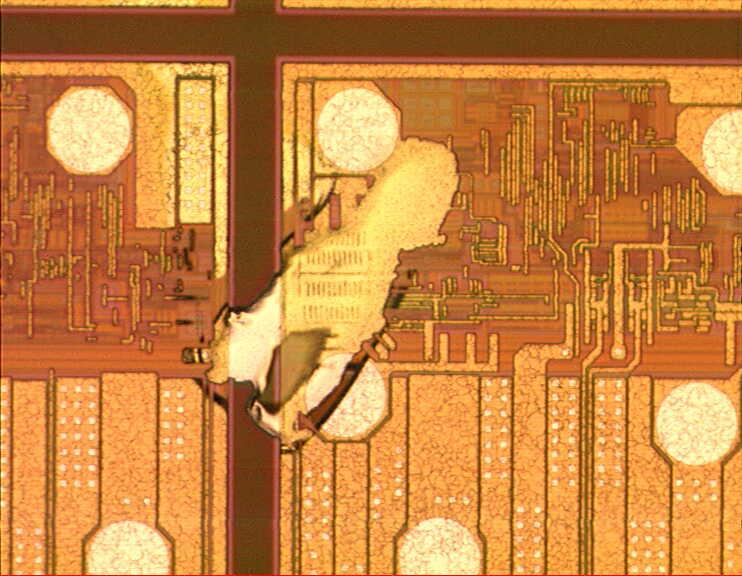BLOCK ETCH: (186, 54, 463, 449)
